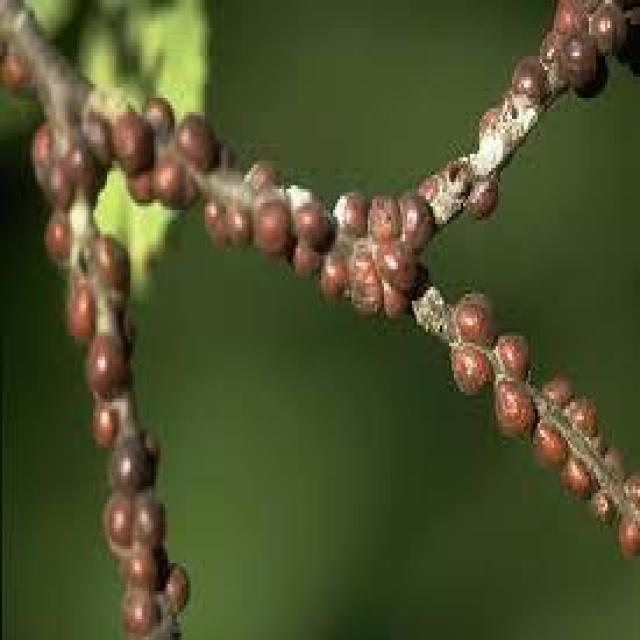BlackScale: (44, 212, 190, 636), (444, 294, 638, 556), (244, 153, 430, 315), (114, 93, 221, 213), (510, 0, 630, 105), (463, 178, 498, 220)
